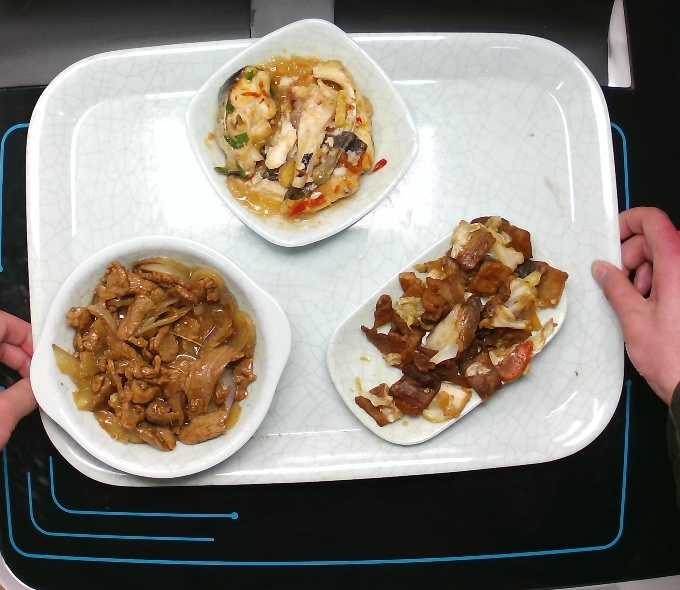wcq-DuoJiaoYuKuai: (208, 51, 371, 225)
wcq-PaoCaiRouPian: (347, 207, 578, 447)
wcq-YangCongRouPian: (46, 247, 258, 454)
